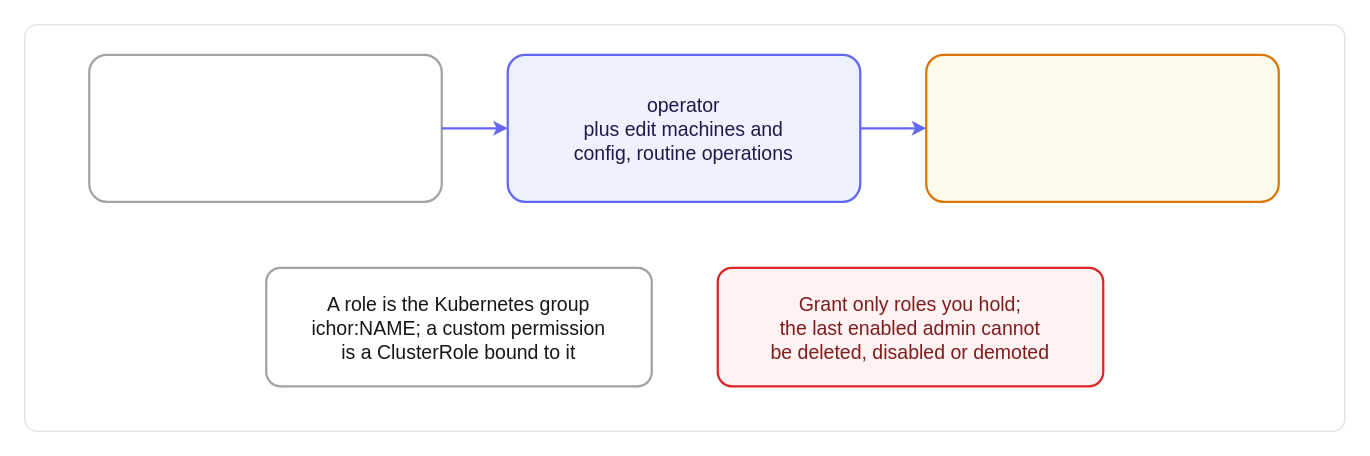
This 1370x456 diagram has some shape labels left out. Here are the shapes that lost their labels. From the top down, the box of each, then its label:
(87, 53, 442, 202): viewer read clusters, machines, operations, nodes
(924, 53, 1279, 202): admin plus delete, users, sign-in, Cilium values, destructive operations
